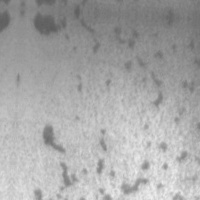patches: (28, 10, 61, 37)
pitted_surface: (32, 34, 199, 199)
